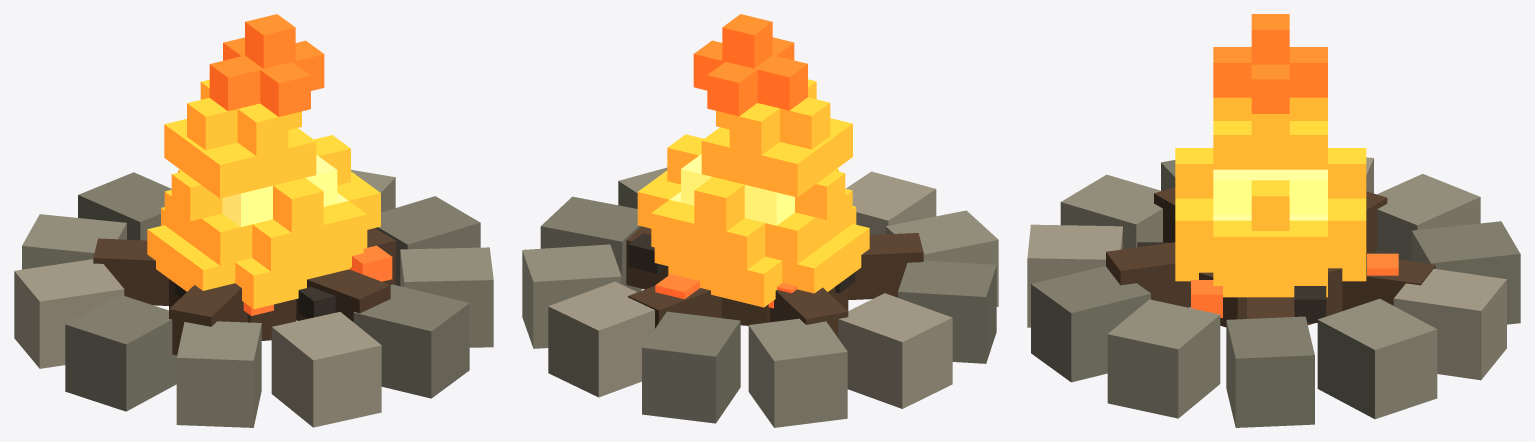
File: fogata-querandi.glb
3 views of the same model, side by side, from view 1: azimuth 30°, elevation 25°; view 2: azimuth 150°, elevation 25°; view 3: azimuth 270°, elevation 25° (orthographic). The views are drawn at different scales.
Parts seen in each view (by area): view 1: Fogata · exportación; view 2: Fogata · exportación; view 3: Fogata · exportación.
Part boxes in pixels (x1,y1,x2,y2): Fogata · exportación: (14,14,493,427); Fogata · exportación: (522,14,998,427); Fogata · exportación: (1027,14,1520,427).
Size of the model in its own units: 1.55 by 1.07 by 1.55.
